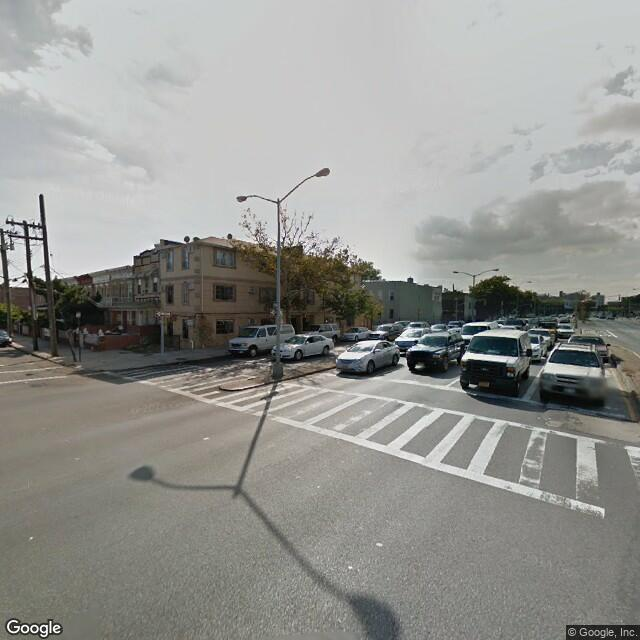litter: (373, 538, 386, 550), (27, 533, 35, 542), (202, 435, 209, 441)
